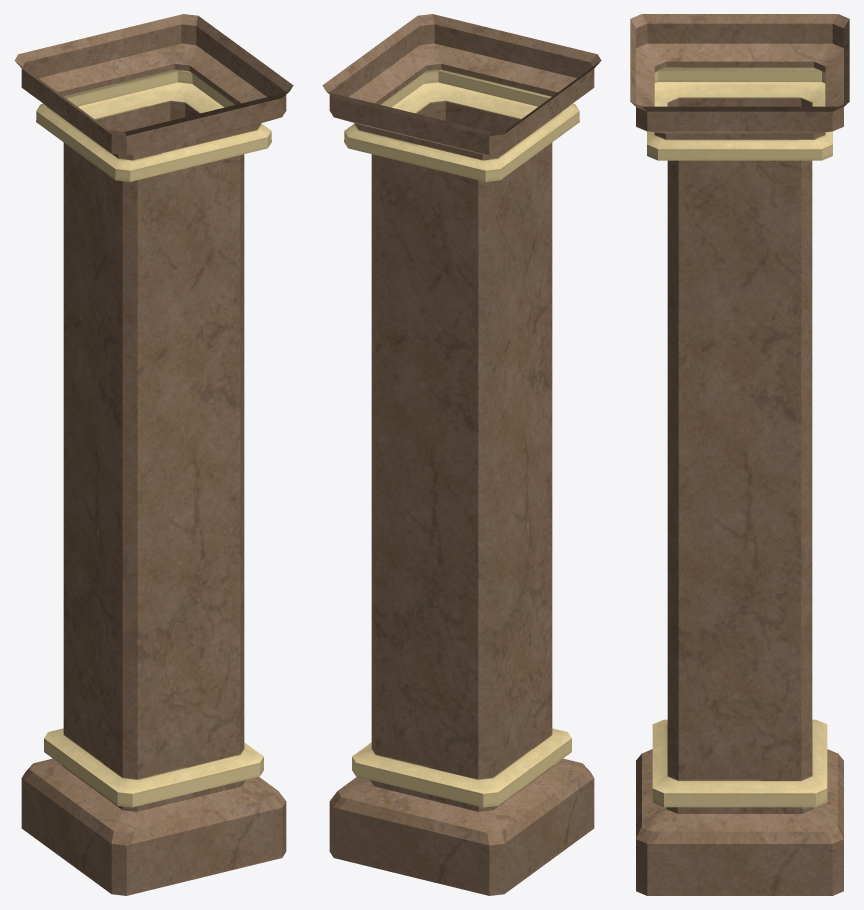
File: Modeling_Pillar_110%.FBX
3 renders of one model, left to right at view 1: azimuth 30°, elevation 25°; view 2: azimuth 150°, elevation 25°; view 3: azimuth 270°, elevation 25°, orthographic. The views are drawn at different scales.
Visible parts, largest first — view 1: Modeling_Pillar_110%; view 2: Modeling_Pillar_110%; view 3: Modeling_Pillar_110%.
Boxes of the visible parts, x1,y1,x2,y2 form: Modeling_Pillar_110%: [14, 14, 293, 895]; Modeling_Pillar_110%: [322, 14, 601, 895]; Modeling_Pillar_110%: [630, 14, 849, 895].
Bounding box in the file's own units: 105 × 420 × 105.
